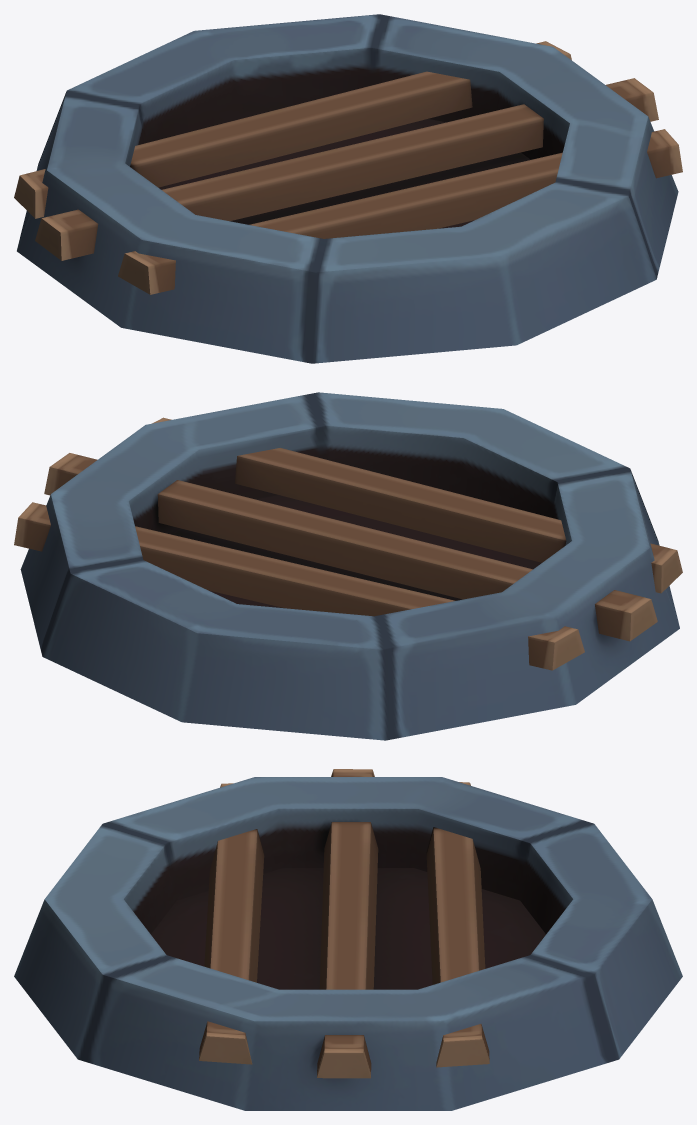
File: forest_mid_slot.fbx
The picture shows the model from 3 angles, top to bottom: view 1: azimuth 30°, elevation 25°; view 2: azimuth 150°, elevation 25°; view 3: azimuth 270°, elevation 25°; orthographic projection.
Parts seen in each view (by area): view 1: forest_mid_slot; view 2: forest_mid_slot; view 3: forest_mid_slot.
Part boxes in pixels (left/top/right/bottom): forest_mid_slot: left=14, top=14, right=682, bottom=363; forest_mid_slot: left=14, top=392, right=682, bottom=740; forest_mid_slot: left=14, top=769, right=682, bottom=1110.
Bounding box in the file's own units: 2.02 × 0.2549 × 2.
